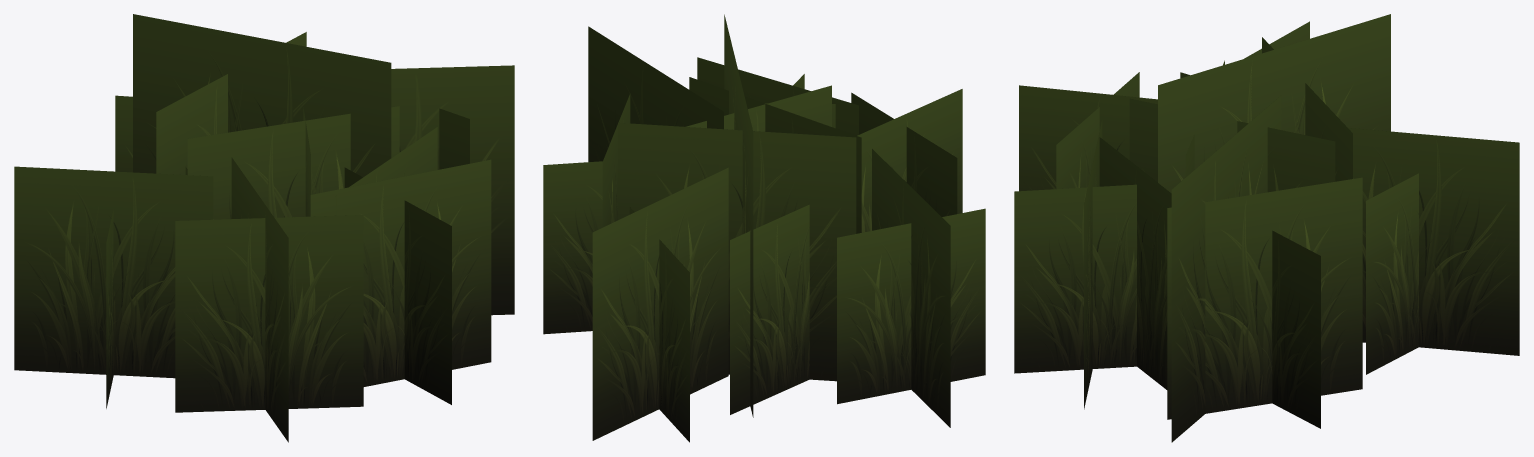
The model's file is Grass_07.fbx.
3 views of the same model, side by side, from view 1: azimuth 30°, elevation 25°; view 2: azimuth 150°, elevation 25°; view 3: azimuth 270°, elevation 25° (orthographic). The views are drawn at different scales.
Visible parts, largest first — view 1: Grass_07; view 2: Grass_07; view 3: Grass_07.
Boxes of the visible parts, x1,y1,x2,y2 form: Grass_07: (14,14,514,442); Grass_07: (543,14,985,442); Grass_07: (1014,14,1519,442).
Size of the model in its own units: 1.91 by 1.22 by 1.9.
Materials: 1 (1 with a texture image).
